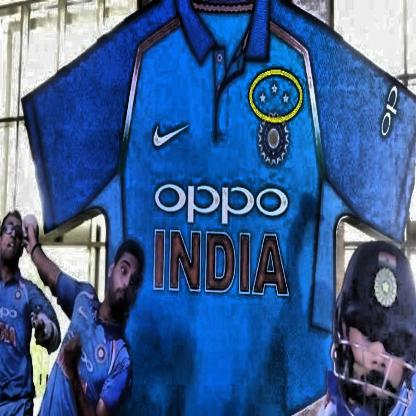BCCI: (258, 111, 290, 169)
Oppo: (153, 182, 289, 228)
